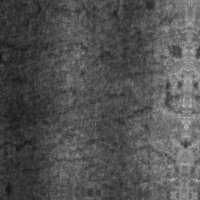crazing: (26, 21, 172, 104), (0, 95, 101, 175)
